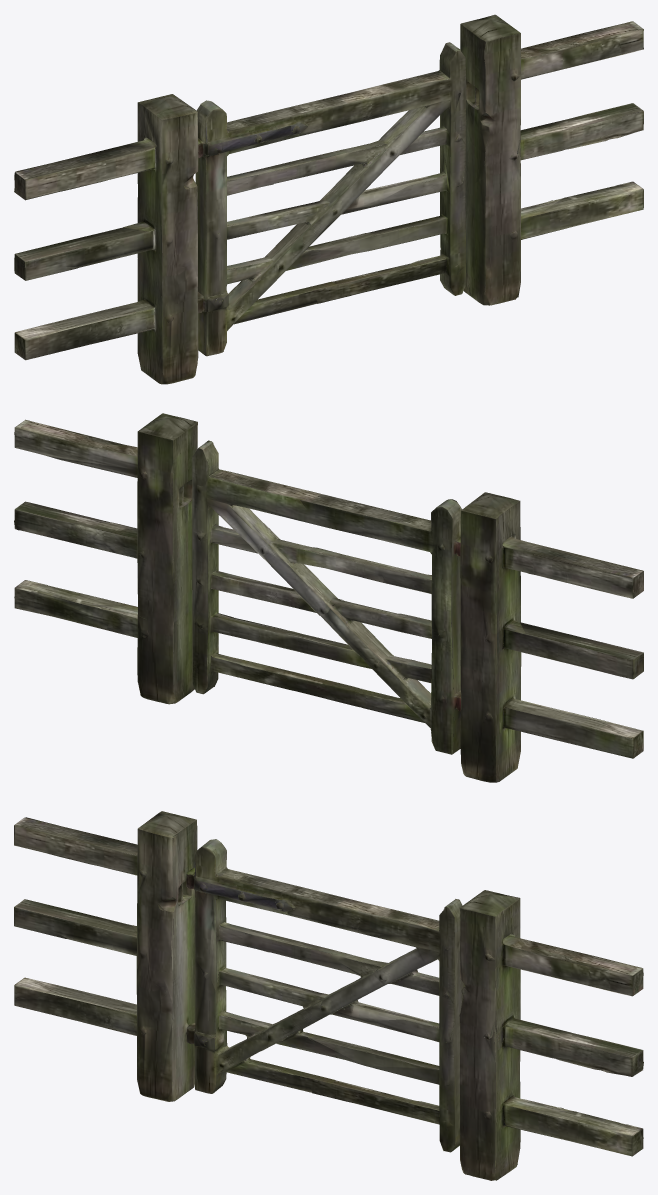
File: yard-fence-gate.glb
The picture shows the model from 3 angles, top to bottom: view 1: azimuth 30°, elevation 25°; view 2: azimuth 150°, elevation 25°; view 3: azimuth 330°, elevation 25°; orthographic projection.
Parts seen in each view (by area): view 1: Mesh_0; view 2: Mesh_0; view 3: Mesh_0.
Part boxes in pixels (bbox=[...]): Mesh_0: bbox=[14, 14, 643, 384]; Mesh_0: bbox=[14, 413, 643, 782]; Mesh_0: bbox=[14, 811, 643, 1180].
Size of the model in its own units: 1.9 by 0.8043 by 0.1501.
1 material, 1 textured.
